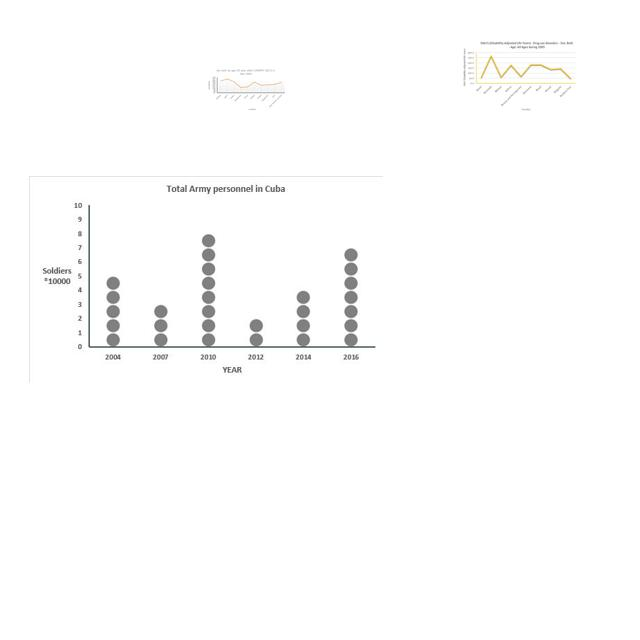Graph: (29, 176, 383, 383), (461, 39, 578, 113), (208, 67, 286, 112)
